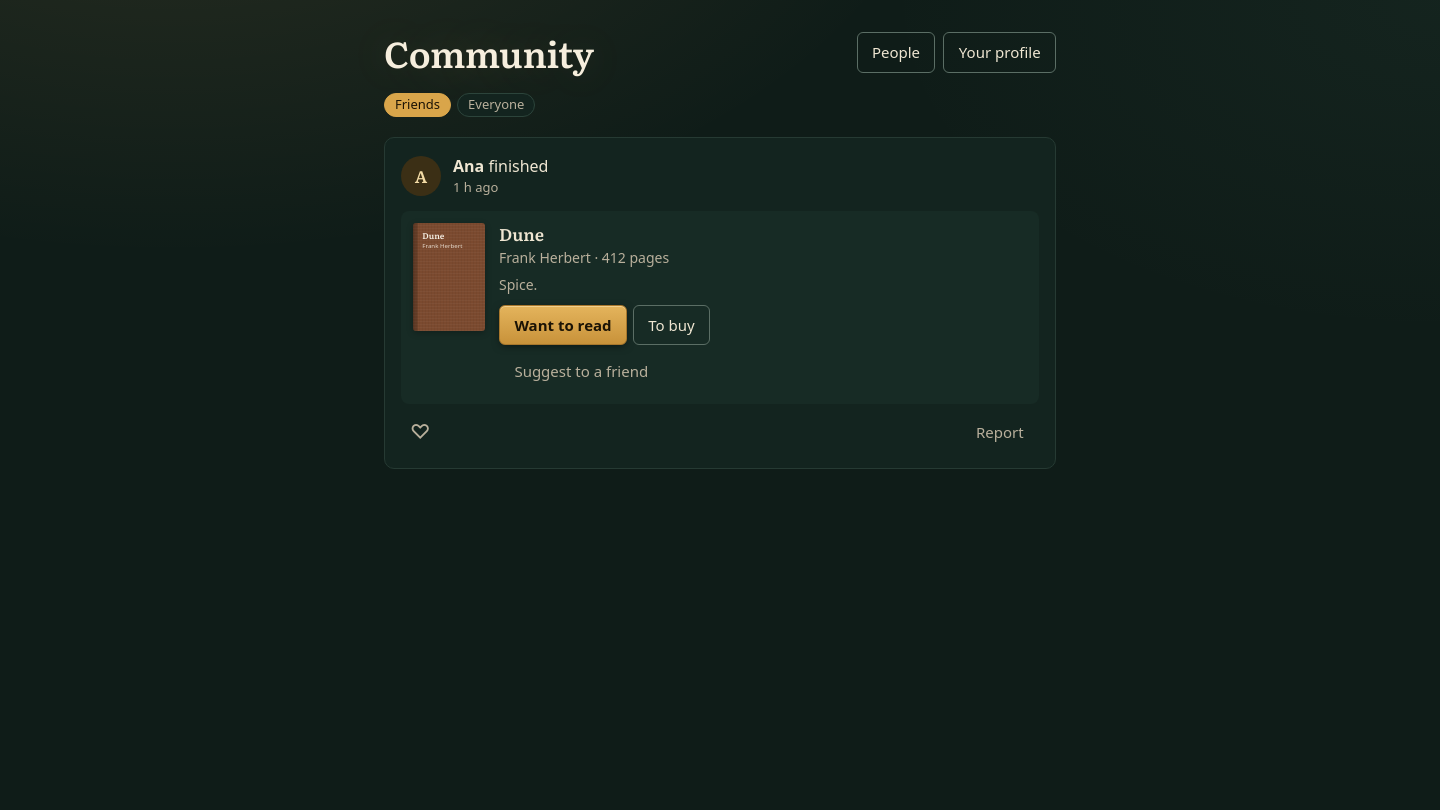
the feed › reportingSendsTheReasonAndTheEntry
Click the button "Report" at (1000,432), box x1=960 y1=412 x2=1039 y2=452
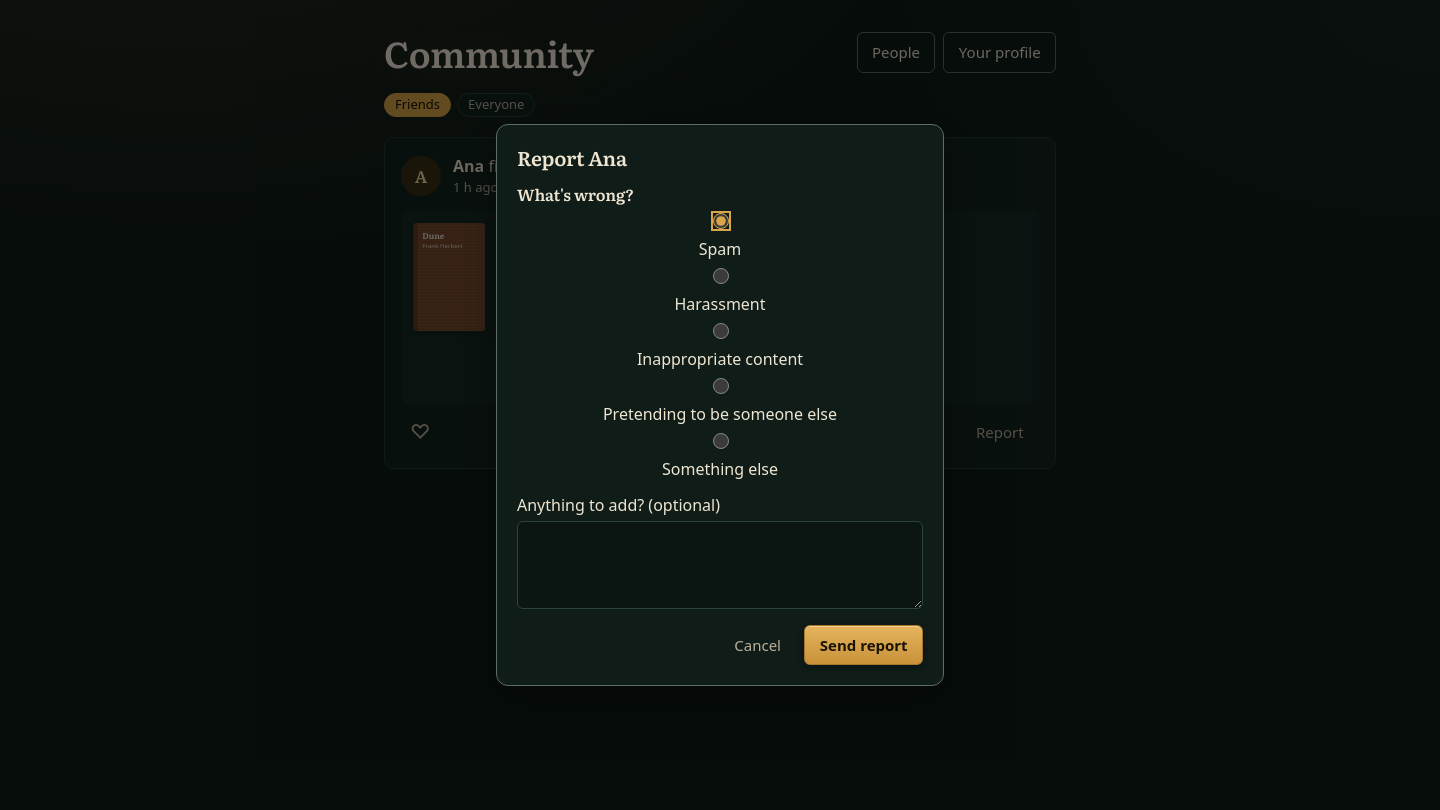
Click the radio button labelled "Harassment" at (721,276), box x1=713 y1=268 x2=729 y2=284
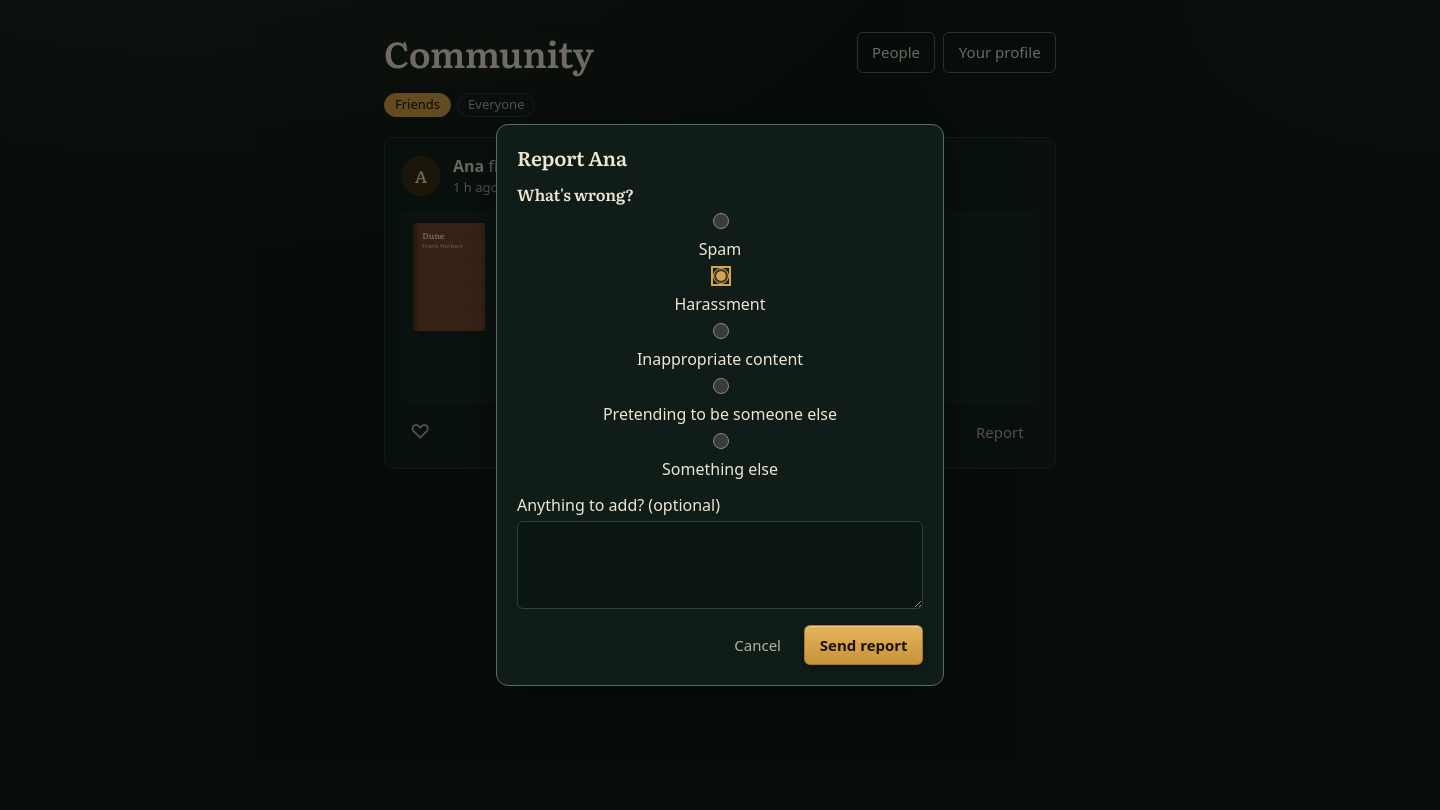
Type "rude" into the text box labelled "Anything to add? (optional)" at (720,565), box x1=517 y1=521 x2=923 y2=609
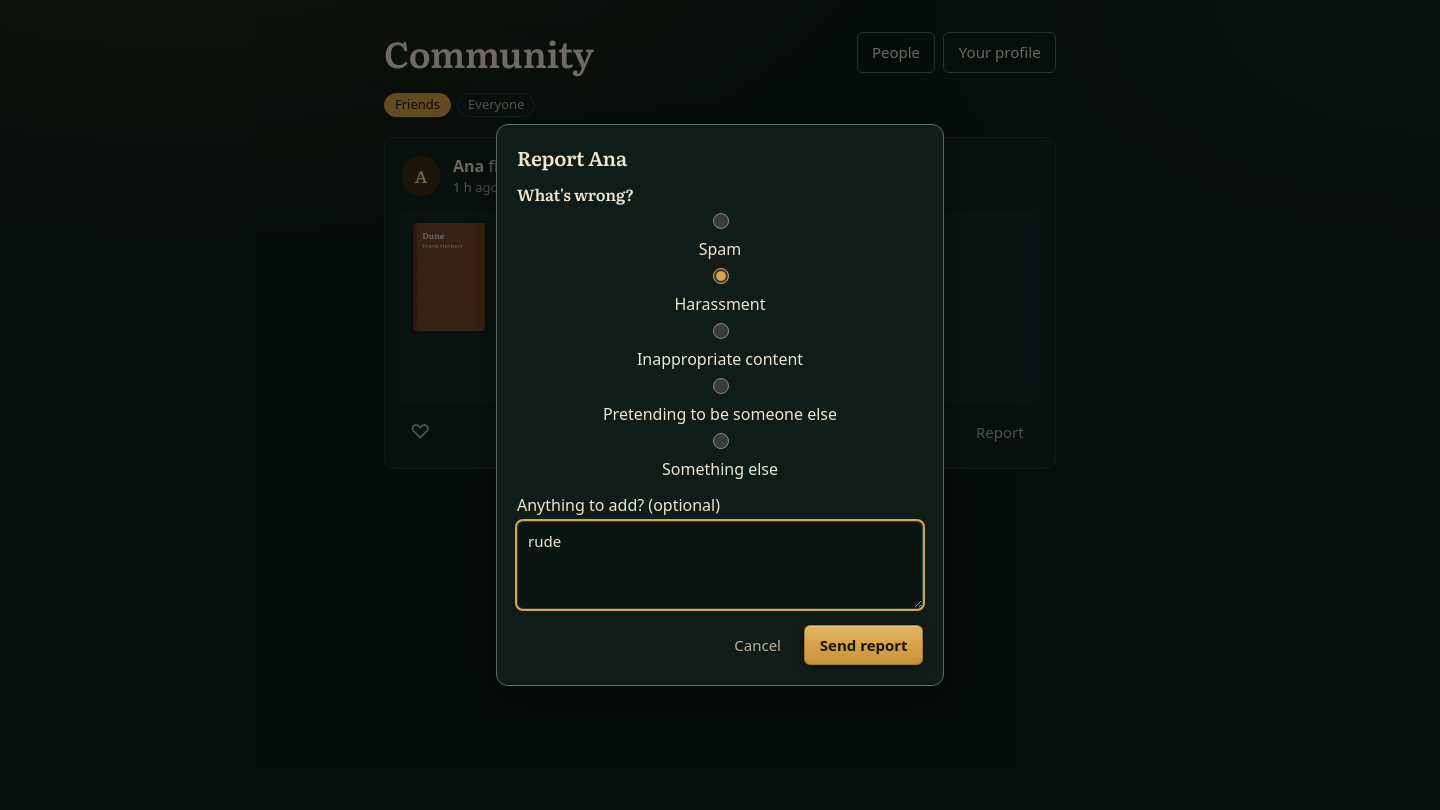
Click the button "Send report" at (864,645), box x1=804 y1=625 x2=923 y2=665
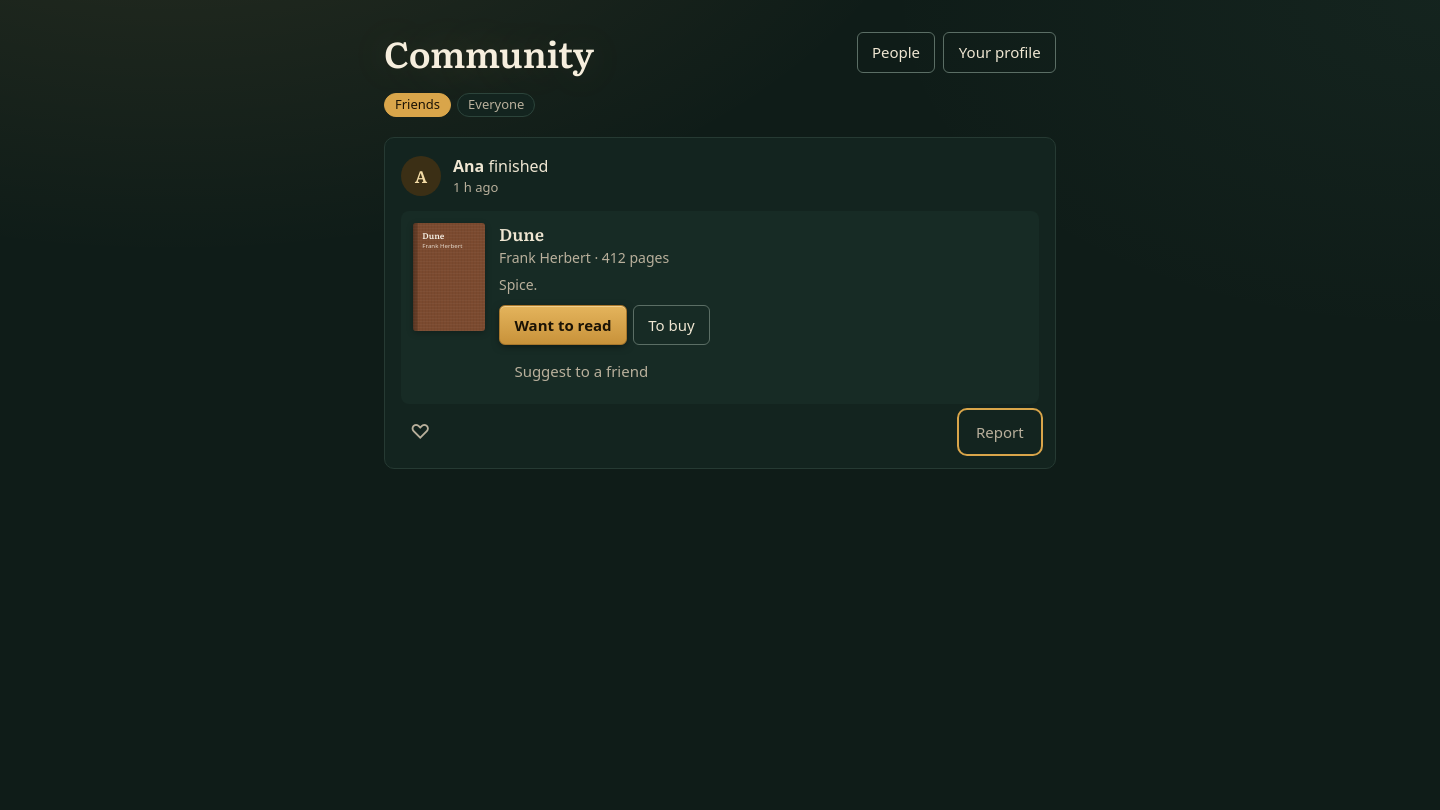
Expected: the dialog is gone
